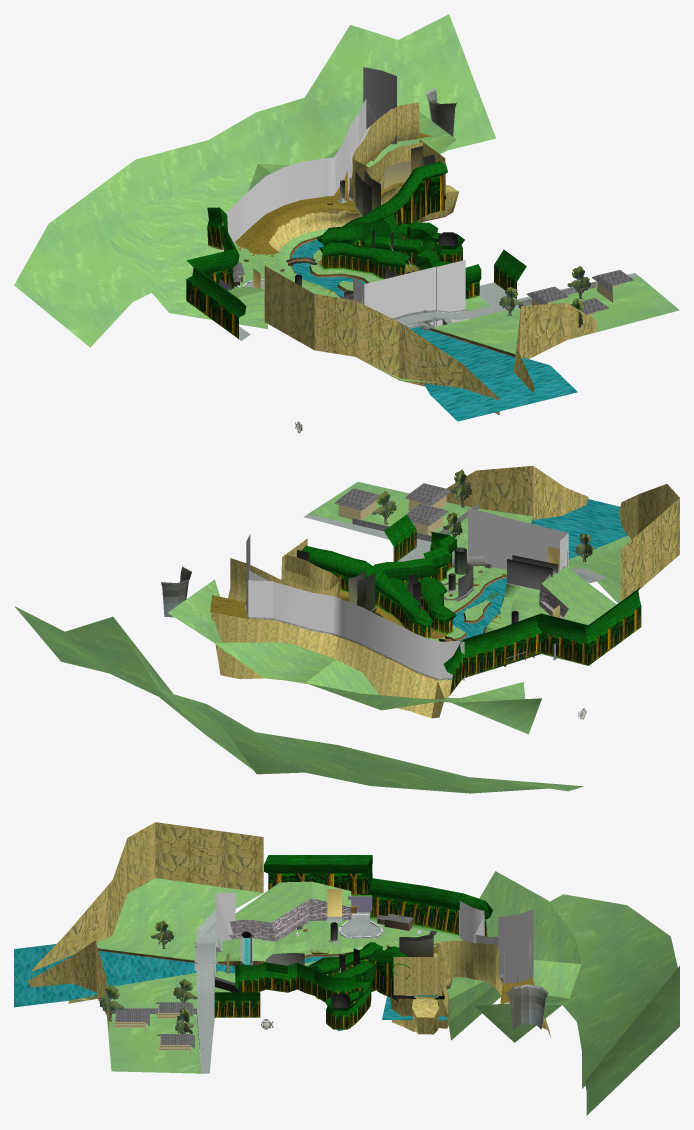
File: RiverBend.FBX
3 views of the same model, one above another, from view 1: azimuth 30°, elevation 25°; view 2: azimuth 150°, elevation 25°; view 3: azimuth 270°, elevation 25° (orthographic).
Visible parts, largest first — view 1: hills02, hills1, FacadeLeft, hills_0_01, FacadeRight, RailCollide, RoadRail_01, WAter_01, Cliffs_Back, Water02, entry02, CliffTrees (+14 smaller); view 2: hills02, RailCollide, FacadeRight, hills1, Cliffs_Back, FacadeLeft, hills_0_01, hills_0, RoadRail_01, entrytrees, entry02, BrickSection (+26 smaller); view 3: hills02, FacadeLeft, FacadeRight, area_01, hills_0_01, hills1, Cliffs_Back, entrytrees, hills_0, entry02, BrickSection, Water02 (+30 smaller).
Part boxes in pixels (x1,y1,x2,y2): hills02: (14,112,274,347); hills1: (256,14,495,165); FacadeLeft: (264,266,499,415); hills_0_01: (109,164,271,328); FacadeRight: (428,273,679,392); RailCollide: (222,98,366,251); RoadRail_01: (364,260,473,328); WAter_01: (430,365,577,421); Cliffs_Back: (337,67,432,191); Water02: (421,332,550,394); entry02: (186,261,250,340); CliffTrees: (398,161,447,224); hills02: (207,704,583,793); RailCollide: (248,580,464,680); FacadeRight: (304,466,588,550); hills1: (14,606,253,770); Cliffs_Back: (210,534,338,684); FacadeLeft: (619,484,679,601); hills_0_01: (306,659,541,734); hills_0: (168,579,335,682); RoadRail_01: (468,508,568,569); entrytrees: (461,613,542,678); entry02: (585,587,641,665); BrickSection: (539,566,616,618); hills02: (549,894,677,1088); FacadeLeft: (32,822,263,971); FacadeRight: (27,940,214,1073); area_01: (96,878,262,962); hills_0_01: (447,871,581,1021); hills1: (585,966,679,1115); Cliffs_Back: (473,909,550,1037); entrytrees: (370,878,463,937); hills_0: (449,960,581,1042); entry02: (264,855,372,896); BrickSection: (229,882,311,941); Water02: (68,951,191,1000).
Bounding box in the file's own units: 40202 × 16993 × 47357.
